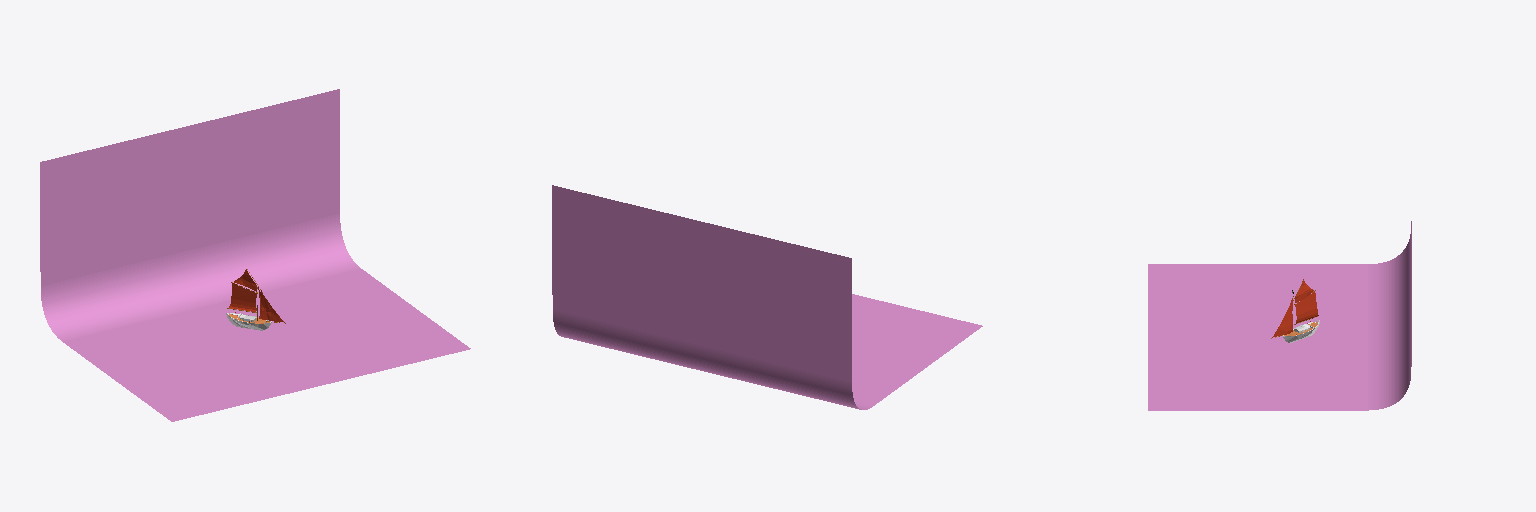
File: KURUNT_obj.obj
The picture shows the model from 3 angles: view 1: azimuth 30°, elevation 25°; view 2: azimuth 150°, elevation 25°; view 3: azimuth 270°, elevation 25°; orthographic projection.
Visible parts, largest first — view 1: Plane001, mainsaill; view 2: Plane001; view 3: Plane001.
Boxes of the visible parts, box(x1,y1,x2,y2) form: Plane001: box(40, 89, 470, 421); mainsaill: box(229, 283, 256, 311); Plane001: box(552, 185, 982, 409); Plane001: box(1148, 221, 1411, 410).
Bounding box in the file's own units: 2128 × 1119 × 1619.